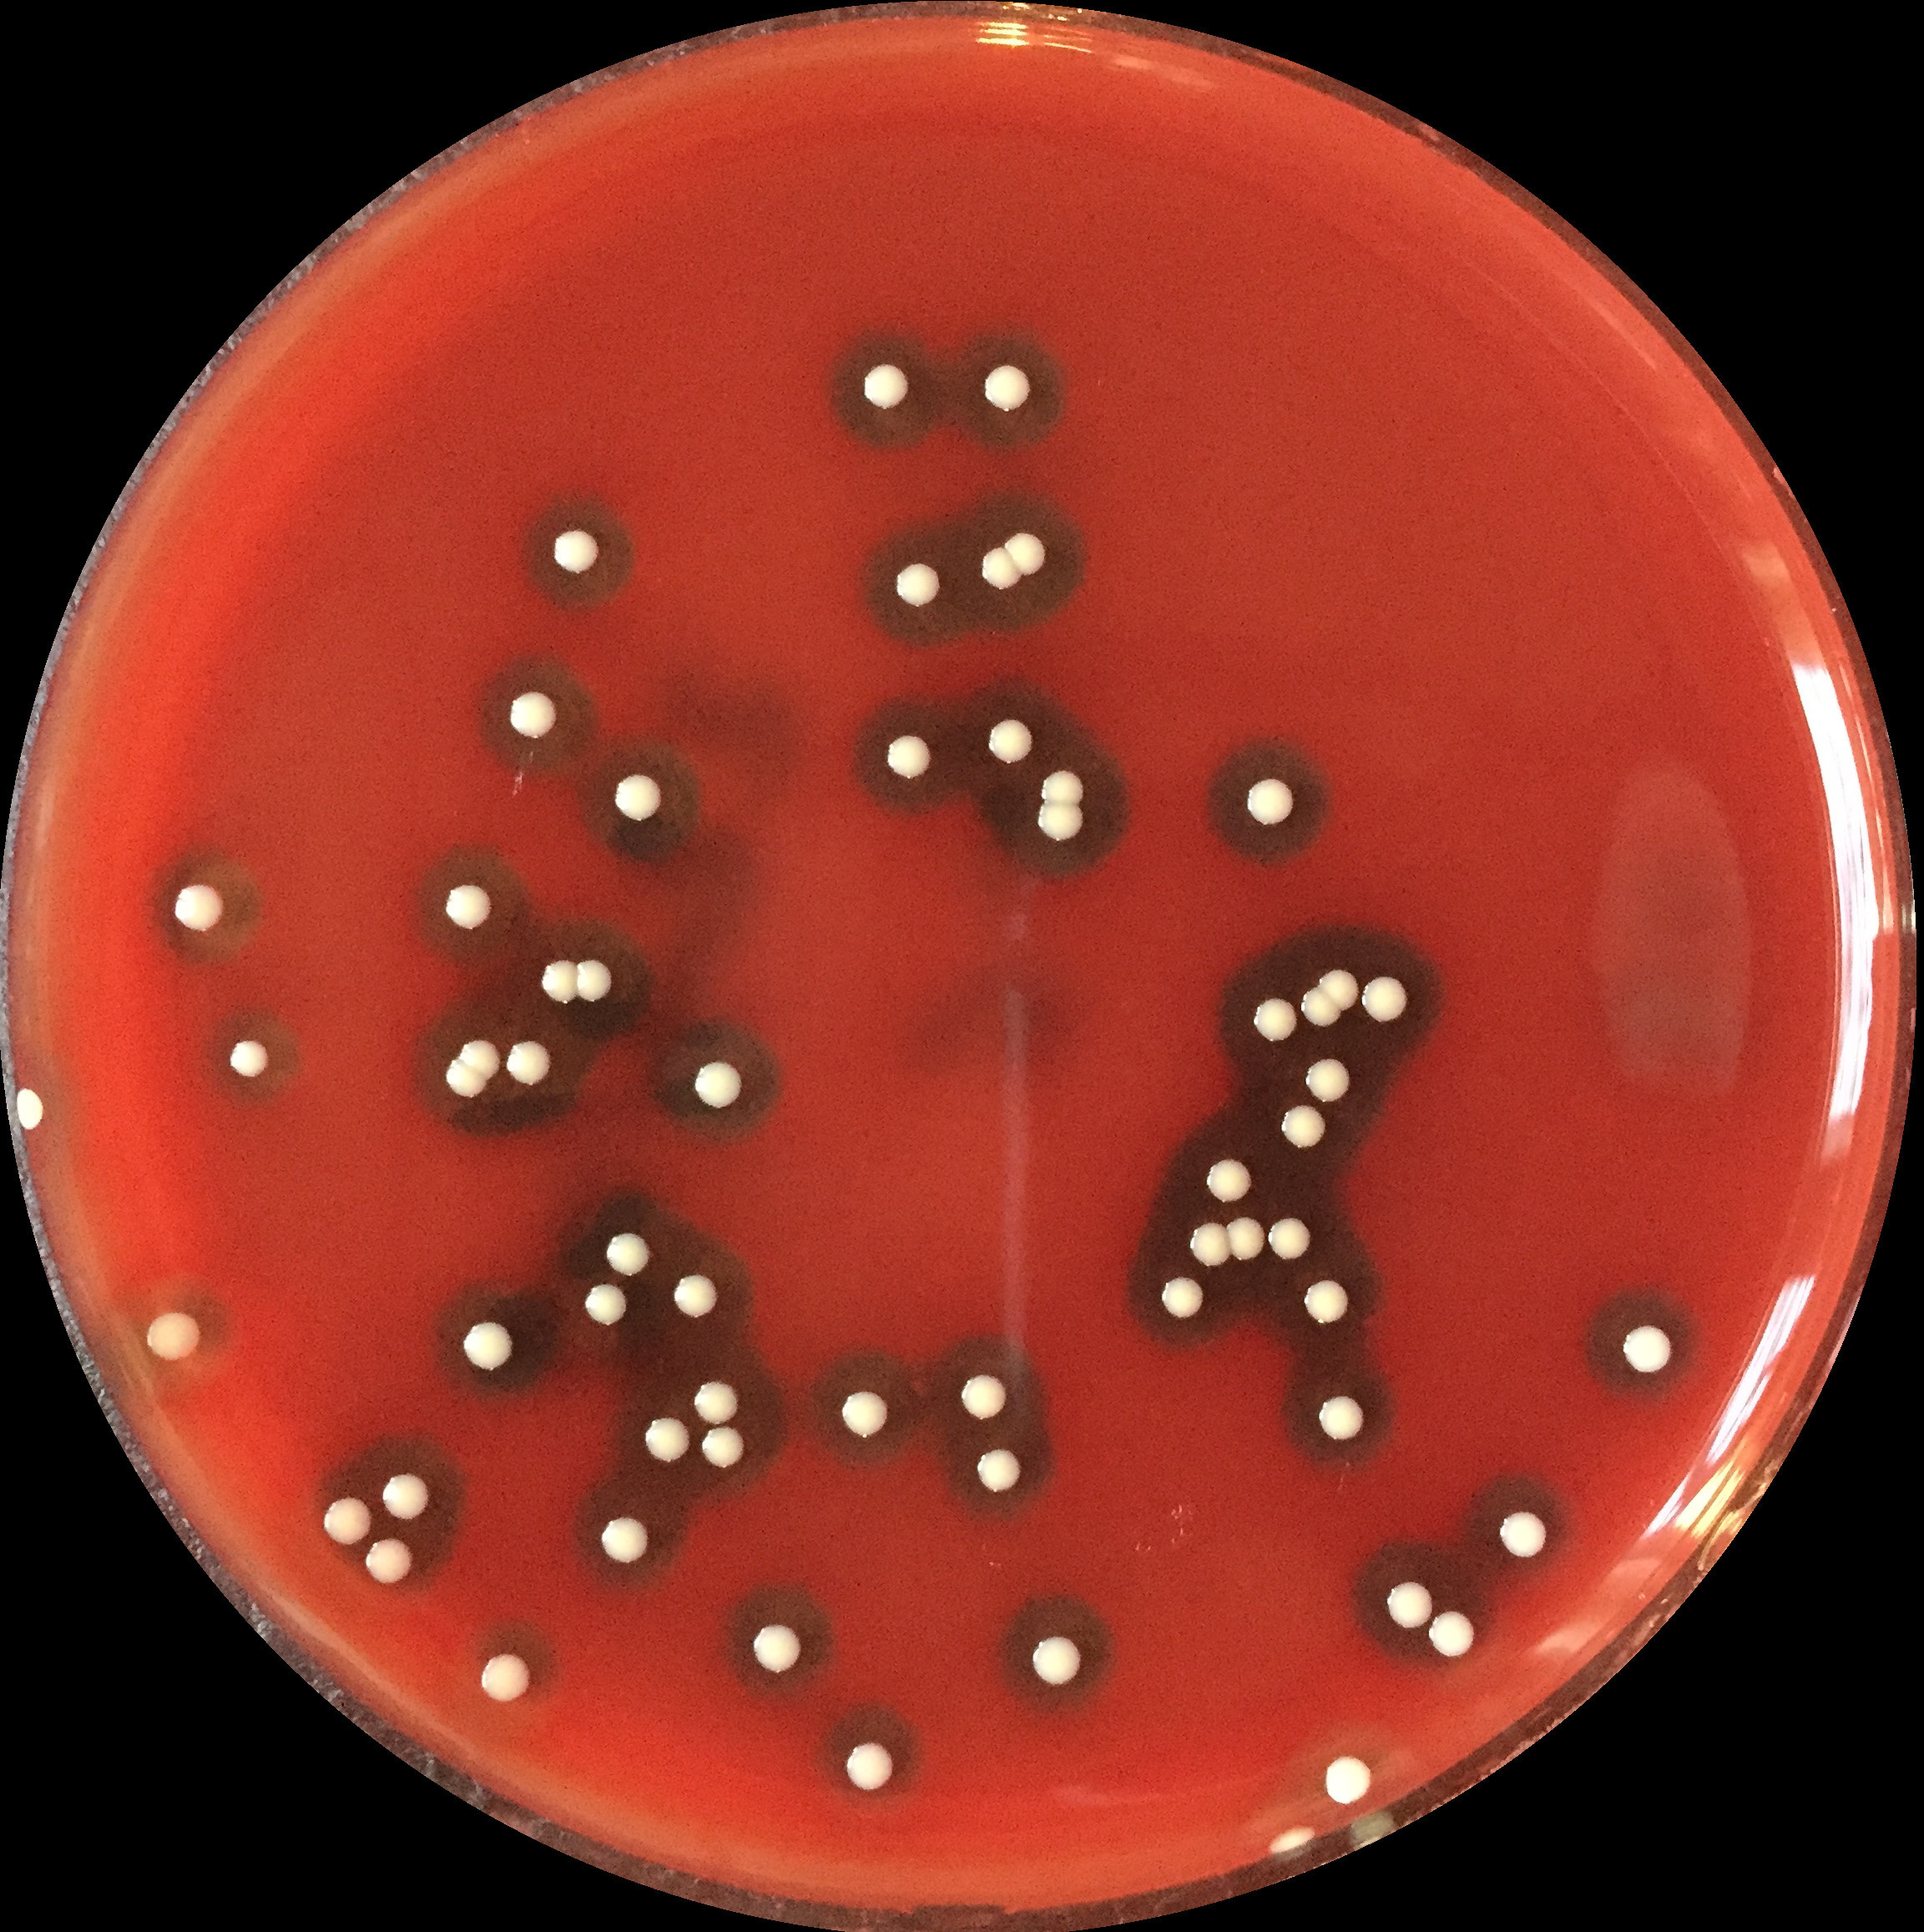sp21: (449, 1316, 532, 1381), (137, 1310, 211, 1370), (978, 354, 1040, 423), (166, 882, 236, 940), (437, 877, 500, 939), (1242, 770, 1300, 831), (1027, 1633, 1085, 1694), (603, 770, 668, 824), (474, 1650, 539, 1705), (1295, 1275, 1353, 1335), (544, 527, 615, 576), (837, 1386, 900, 1441), (1029, 791, 1087, 849), (886, 555, 946, 611), (877, 733, 939, 787), (685, 1055, 747, 1110), (597, 1229, 659, 1284), (856, 358, 920, 410), (1277, 1099, 1334, 1157), (504, 687, 562, 743), (1381, 1576, 1438, 1634), (1196, 1155, 1256, 1210), (374, 1471, 433, 1525), (594, 1513, 654, 1567), (976, 715, 1036, 768), (359, 1536, 419, 1589), (1617, 1324, 1677, 1377), (666, 1272, 729, 1321), (317, 1495, 375, 1548), (747, 1620, 800, 1678), (840, 1737, 899, 1789), (634, 1418, 696, 1467), (1316, 1751, 1371, 1805), (580, 1277, 636, 1330), (953, 1372, 1013, 1421), (1300, 1053, 1355, 1106), (1219, 1217, 1272, 1272), (1314, 1390, 1367, 1444), (1498, 1506, 1550, 1560), (689, 1377, 745, 1428), (504, 1037, 557, 1090), (1424, 1606, 1478, 1657), (1360, 970, 1410, 1027), (971, 1451, 1027, 1501), (1034, 761, 1089, 810), (1156, 1272, 1209, 1321), (9, 1083, 58, 1134), (699, 1420, 747, 1472), (976, 544, 1031, 590), (224, 1037, 280, 1081), (999, 530, 1054, 574), (1263, 1213, 1311, 1263), (1251, 999, 1302, 1044), (569, 958, 620, 1004), (1188, 1222, 1237, 1268), (537, 958, 587, 1004), (1314, 969, 1367, 1011), (440, 1058, 492, 1099), (1265, 1821, 1320, 1858), (1297, 988, 1341, 1030), (456, 1039, 504, 1074)
